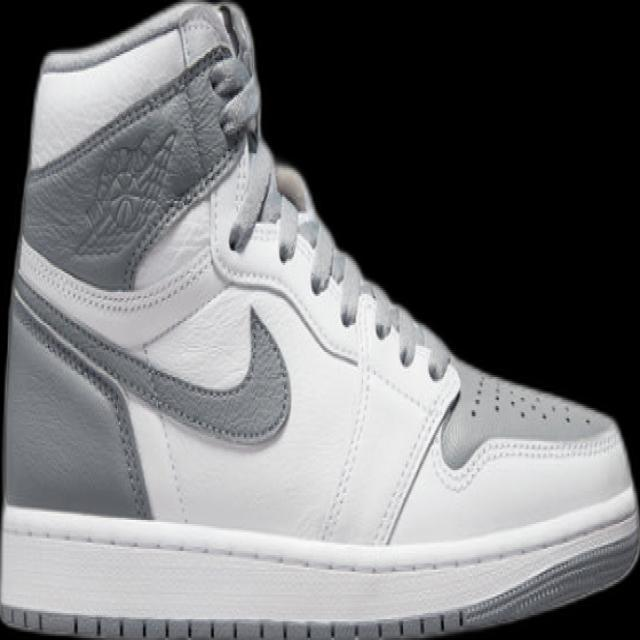J1_InsoleChar: (0, 0, 639, 639)
J1_StitchPattern: (265, 163, 597, 431), (0, 509, 639, 639), (31, 40, 253, 268), (11, 276, 292, 445), (267, 164, 450, 379), (317, 282, 457, 544), (10, 278, 155, 516), (270, 167, 368, 327), (0, 606, 467, 639), (372, 378, 461, 546), (318, 290, 377, 542), (207, 1, 263, 147), (467, 369, 598, 429)
